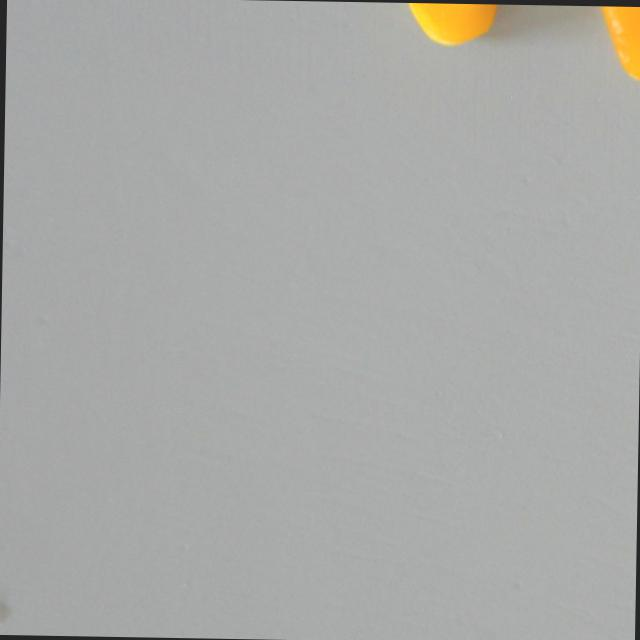estandar: (400, 1, 496, 49)
pelicula: (595, 5, 640, 83)
